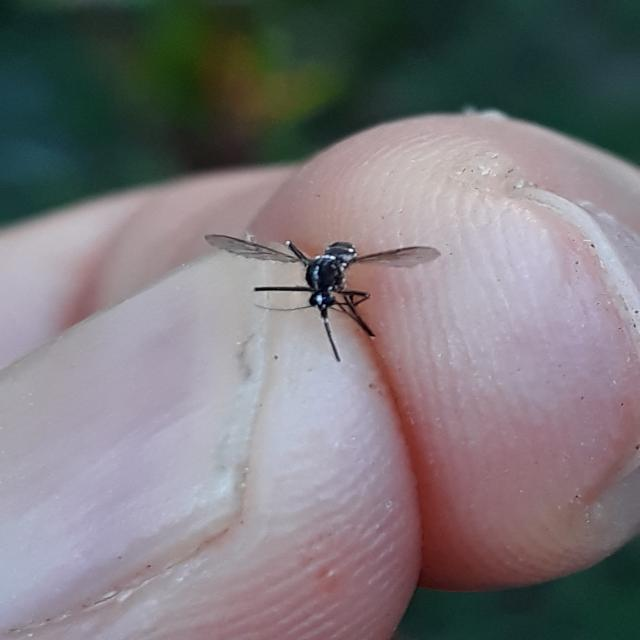albopictus: (203, 217, 441, 363)
